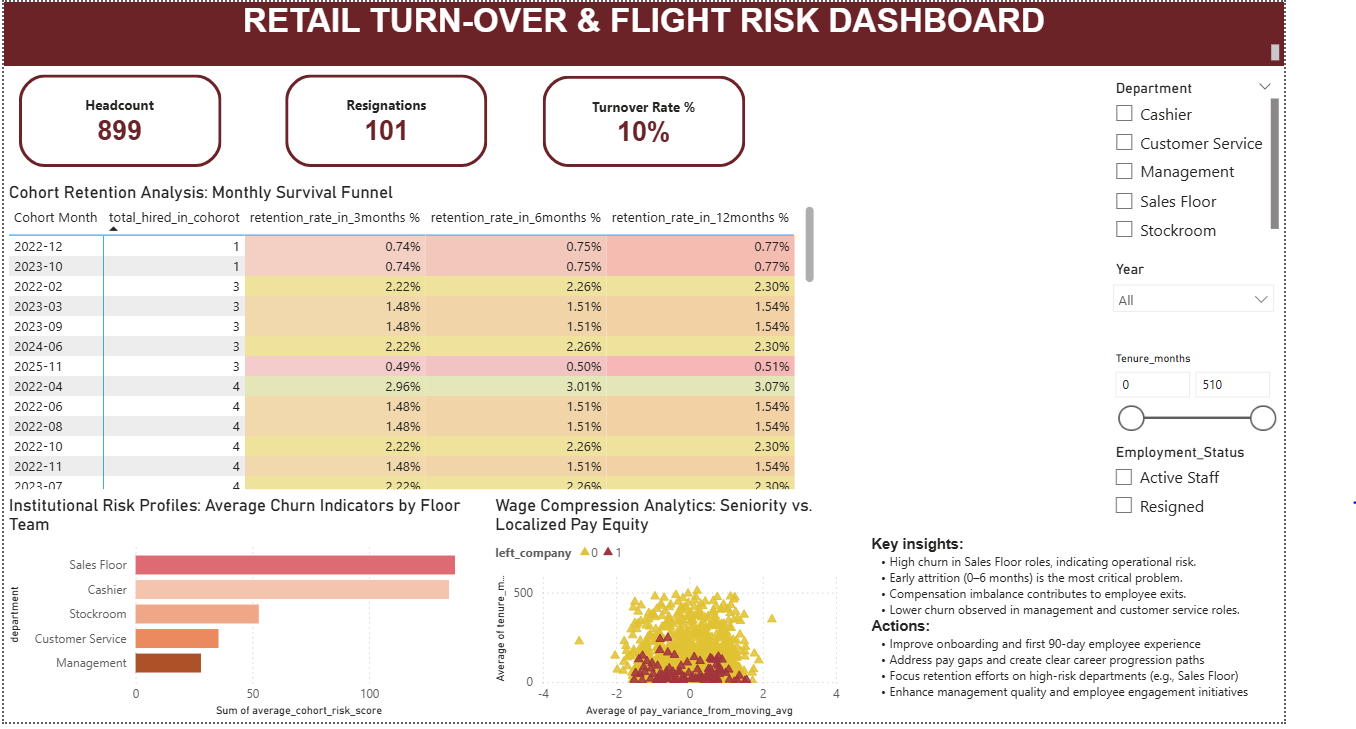

Layout of this report page (visuals, bound fields, positions):
{"tool":"powerbi","page":{"name":"Overview","canvas":[1280,720],"ordinal":0},"visuals":[{"type":"actionButton","box":[15,72.5,202.5,92.5],"z":0,"group":"g1"},{"type":"actionButton","box":[281.2,72.5,202,92.5],"z":0,"group":"g2"},{"type":"actionButton","box":[538.8,73.8,202.5,91.2],"z":0,"group":"g3"},{"type":"pivotTable","title":"Cohort Retention Analysis: Monthly Survival Funnel","fields":{"Rows":["Dim_Monthly_Calendar.Cohort Month"],"Values":["Sum(hr_db v_executive_cohort_summary.total_hired_in_cohort)","Sum(hr_db v_executive_cohort_summary.retention_rate_3m)","Sum(hr_db v_executive_cohort_summary.retention_rate_6m)","Sum(hr_db v_executive_cohort_summary.retention_rate_12m)"]},"box":[0,180,815,312.5],"z":0},{"type":"cardVisual","fields":{"Data":["hr_db v_employee_retention_metrics.Total Resignations"]},"box":[304.6,77.5,155.2,82.5],"z":1000,"group":"g2"},{"type":"cardVisual","fields":{"Data":["hr_db v_employee_retention_metrics.Active Headcount"]},"box":[32.5,78.7,166.2,81.2],"z":1000,"group":"g1"},{"type":"cardVisual","fields":{"Data":["hr_db v_employee_retention_metrics.Turnover Rate %"]},"box":[561.3,80,157.5,81.2],"z":1000,"group":"g3"},{"type":"clusteredBarChart","title":"Institutional Risk Profiles: Average Churn Indicators by Floor Team","fields":{"Category":["hr_db v_executive_cohort_summaries.department"],"Y":["Sum(hr_db v_executive_cohort_summaries.average_cohort_risk_score)"]},"box":[0,492.5,473.8,227.5],"z":1000},{"type":"slicer","fields":{"Values":["hr_db v_executive_cohort_summaries.department"]},"box":[1098.8,72.5,181.2,171.2],"z":2000},{"type":"scatterChart","title":"Wage Compression Analytics: Seniority vs. Localized Pay Equity","fields":{"X":["Avg(hr_db v_employee_retention_metrics.pay_variance_from_moving_avg)"],"Y":["Avg(hr_db v_employee_retention_metrics.tenure_months)"],"Series":["hr_db v_employee_retention_metrics.left_company"],"Category":["hr_db v_employee_retention_metrics.employee_id"]},"box":[486.2,492.5,355,227.5],"z":3000},{"type":"textbox","title":"RETAIL TURN-OVER & FLIGHT RISK DASHBOARD","box":[0,0,1280,63.8],"z":4000},{"type":"group","id":"g1","title":"Group 2","box":[15,72.5,202.5,92.5],"z":5000},{"type":"slicer","fields":{"Values":["hr_db v_employee_retention_metrics.Employment_Status"]},"box":[1098.8,436.2,181.2,91.2],"z":6000},{"type":"slicer","fields":{"Values":["Dim_Monthly_Calendar.Year"]},"box":[1098.8,253.8,181.2,91.2],"z":7000},{"type":"slicer","fields":{"Values":["hr_db v_employee_retention_metrics.tenure_months"]},"box":[1098.8,345,181.2,91.2],"z":8000},{"type":"group","id":"g2","title":"Group 1","box":[281.2,72.5,202,92.5],"z":9000},{"type":"group","id":"g3","title":"Group 3","box":[538.8,73.8,202.5,91.2],"z":10000},{"type":"textbox","box":[862.5,527.5,417.5,192.5],"z":10001}]}

Visuals, with their boxes in screenshot pixels (x1, y1, x2, y2):
actionButton: <bbox>15, 72, 217, 164</bbox>
actionButton: <bbox>280, 72, 481, 164</bbox>
actionButton: <bbox>537, 74, 739, 164</bbox>
"Cohort Retention Analysis: Monthly Survival Funnel" pivotTable: <bbox>0, 179, 812, 491</bbox>
cardVisual - hr_db v_employee_retention_metrics.Total Resignations: <bbox>303, 77, 458, 159</bbox>
cardVisual - hr_db v_employee_retention_metrics.Active Headcount: <bbox>32, 78, 198, 159</bbox>
cardVisual - hr_db v_employee_retention_metrics.Turnover Rate %: <bbox>559, 80, 716, 161</bbox>
"Institutional Risk Profiles: Average Churn Indicators by Floor Team" clusteredBarChart: <bbox>0, 491, 472, 717</bbox>
slicer - hr_db v_executive_cohort_summaries.department: <bbox>1095, 72, 1275, 243</bbox>
"Wage Compression Analytics: Seniority vs. Localized Pay Equity" scatterChart: <bbox>484, 491, 838, 717</bbox>
"RETAIL TURN-OVER & FLIGHT RISK DASHBOARD" textbox: <bbox>0, 0, 1275, 64</bbox>
"Group 2" group: <bbox>15, 72, 217, 164</bbox>
slicer - hr_db v_employee_retention_metrics.Employment_Status: <bbox>1095, 435, 1275, 525</bbox>
slicer - Dim_Monthly_Calendar.Year: <bbox>1095, 253, 1275, 344</bbox>
slicer - hr_db v_employee_retention_metrics.tenure_months: <bbox>1095, 344, 1275, 435</bbox>
"Group 1" group: <bbox>280, 72, 481, 164</bbox>
"Group 3" group: <bbox>537, 74, 739, 164</bbox>
textbox: <bbox>859, 526, 1275, 717</bbox>
